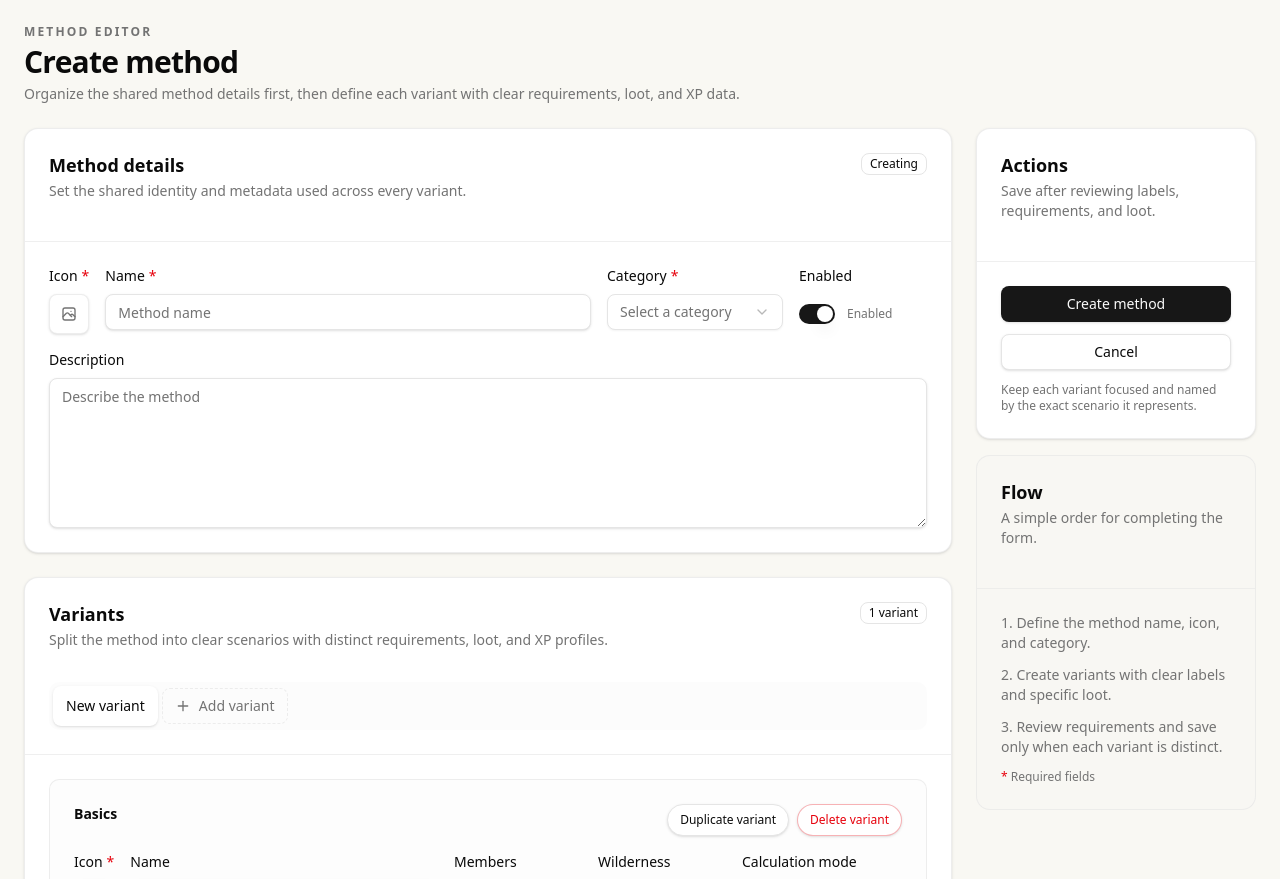
Test: critical flow: create/edit form validations › validates required fields in create mode
Step 1. Click the button "Create method" → (1116, 304), box [1001,286,1231,322]
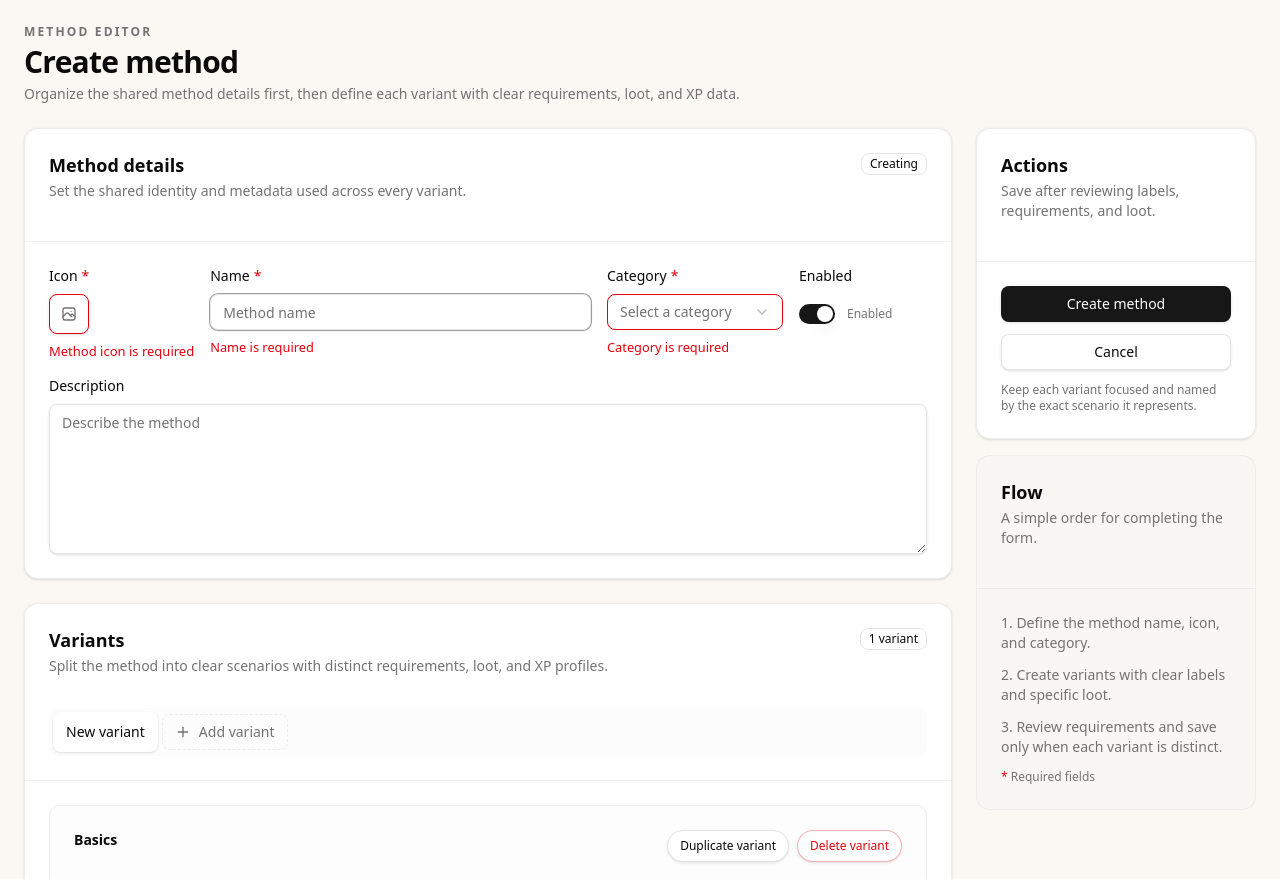
Now the text "Name is required" is shown, box [210,338,314,356]
Now the text "Category is required" is shown, box [607,338,729,356]
